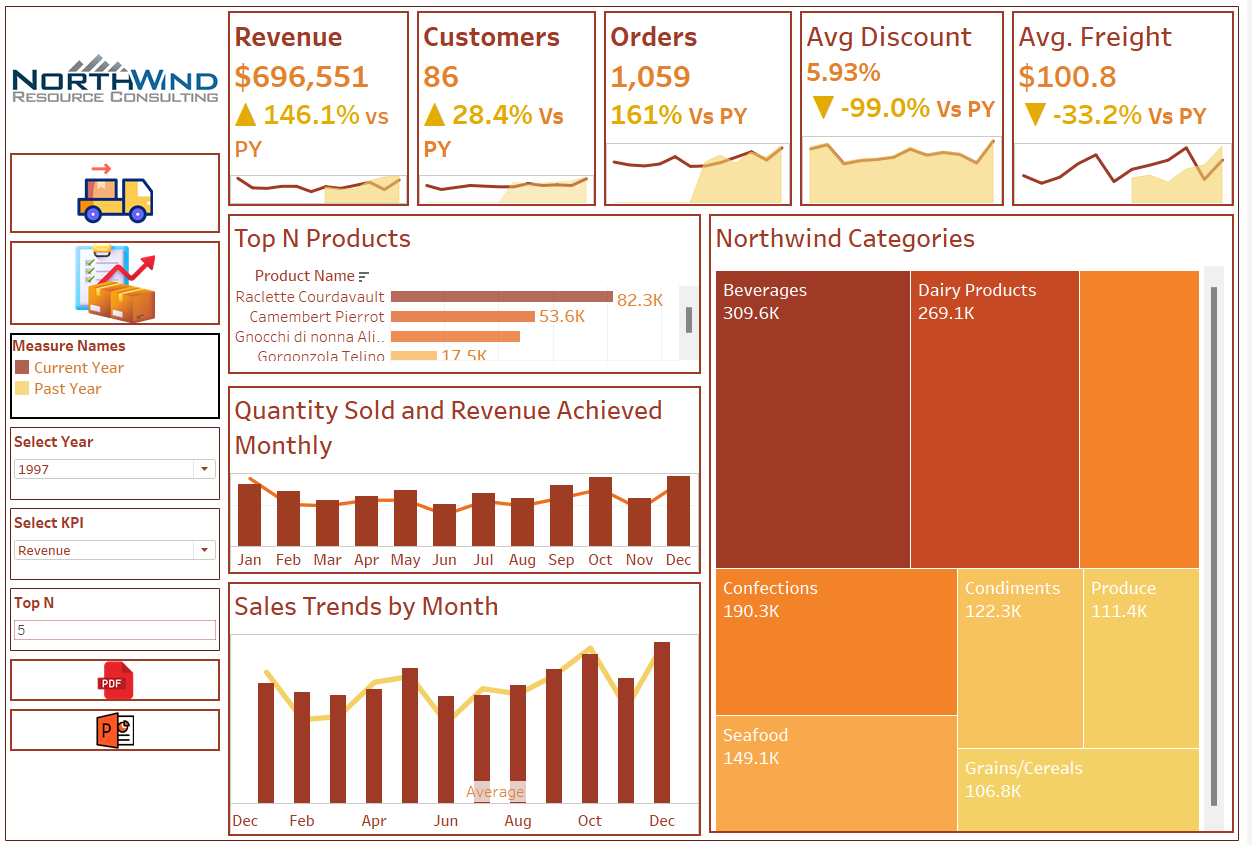

The page's visual inventory and layout, read from the dashboard file:
{"tool":"tableau","page":{"name":"NorthWind Performance","canvas":[1250,851],"ordinal":3},"visuals":[{"type":"image","param":"Image/WhatsApp Image 2024-09-26 at 10.36.31.jpeg","box":[9,9,218,142]},{"type":"worksheet","title":"Revenue graph","mark":"Automatic","rows":["Calculation_1565000929034969092","Calculation_1565000929035689989"],"cols":["Calculation_1565000928560275456"],"box":[227,9,189,203]},{"type":"worksheet","title":"Customers graph","mark":"Automatic","rows":["Calculation_1565000929036079110","Calculation_1565000929045344264"],"cols":["Calculation_1565000928560275456"],"box":[416,9,187,203]},{"type":"worksheet","title":"#orders graph ","mark":"Automatic","rows":["Calculation_1565000929045602313","Calculation_1565000929045733386"],"cols":["Calculation_1565000928560275456"],"box":[603,9,196,203]},{"type":"worksheet","title":"Discount graph ","mark":"Automatic","rows":["Calculation_1565000929049964558","Calculation_1565000929050095631"],"cols":["Calculation_1565000928560275456"],"box":[799,9,212,203]},{"type":"worksheet","title":"freight graph ","mark":"Automatic","rows":["Calculation_1565000929046958091","Calculation_1565000929047076876"],"cols":["Calculation_1565000928560275456"],"box":[1011,9,230,203]},{"type":"dashboard-object","box":[9,151,218,88]},{"type":"worksheet","title":"Top N Products","mark":"Automatic","rows":["ProductName"],"cols":["Calculation_1565000928720039938"],"box":[227,212,481.2,168]},{"type":"worksheet","title":"Northwind Categories","mark":"Automatic","box":[708.2,212,532.8,627]},{"type":"dashboard-object","box":[9,239,218,92]},{"type":"legend","title":"freight graph ","param":"[federated.134mezo0k33ncj15sxvx01d3lqh3].[:Measure Names]","box":[9,331,218,94]},{"type":"worksheet","title":"Quantity Sold and Revenue Achieved Monthly","mark":"Bar","rows":["Calculation_1881660278454145037","Calculation_1881660278454485006"],"cols":["Calculation_1565000928560275456"],"box":[227,384,481.2,196.1]},{"type":"parameter","param":"[Parameters].[Parameter 3]","box":[9,425,218,81]},{"type":"parameter","param":"[Parameters].[Parameter 2]","box":[9,506,218,80]},{"type":"worksheet","title":"Sales Trends by Month","mark":"Automatic","rows":["Calculation_1881660278458265616","Calculation_1881660278455418895"],"cols":["Calculation_517069590379212800"],"box":[227,580.1,481.2,261.9]},{"type":"parameter","param":"[Parameters].[Parameter 1]","box":[9,586,218,71]},{"type":"dashboard-object","box":[9,657,218,50]},{"type":"dashboard-object","box":[9,707,218,50]}]}

Visuals, with their boxes in screenshot pixels (x1, y1, x2, y2), scaled from the page's 1250x851 canvas onto the 1252x845 screenshot:
image: [left=9, top=9, right=227, bottom=150]
"Revenue graph" worksheet: [left=227, top=9, right=417, bottom=211]
"Customers graph" worksheet: [left=417, top=9, right=604, bottom=211]
"#orders graph " worksheet: [left=604, top=9, right=800, bottom=211]
"Discount graph " worksheet: [left=800, top=9, right=1013, bottom=211]
"freight graph " worksheet: [left=1013, top=9, right=1243, bottom=211]
dashboard-object: [left=9, top=150, right=227, bottom=237]
"Top N Products" worksheet: [left=227, top=211, right=709, bottom=377]
"Northwind Categories" worksheet: [left=709, top=211, right=1243, bottom=833]
dashboard-object: [left=9, top=237, right=227, bottom=329]
"freight graph " legend: [left=9, top=329, right=227, bottom=422]
"Quantity Sold and Revenue Achieved Monthly" worksheet (Bar marks): [left=227, top=381, right=709, bottom=576]
parameter: [left=9, top=422, right=227, bottom=502]
parameter: [left=9, top=502, right=227, bottom=582]
"Sales Trends by Month" worksheet: [left=227, top=576, right=709, bottom=836]
parameter: [left=9, top=582, right=227, bottom=652]
dashboard-object: [left=9, top=652, right=227, bottom=702]
dashboard-object: [left=9, top=702, right=227, bottom=752]
